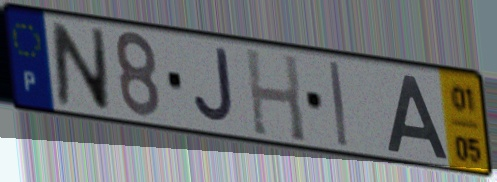8: (113, 30, 162, 121)
A: (384, 72, 451, 161)
H: (242, 44, 309, 146)
I: (326, 58, 351, 151)
J: (190, 45, 238, 128)
N: (48, 19, 113, 115)
